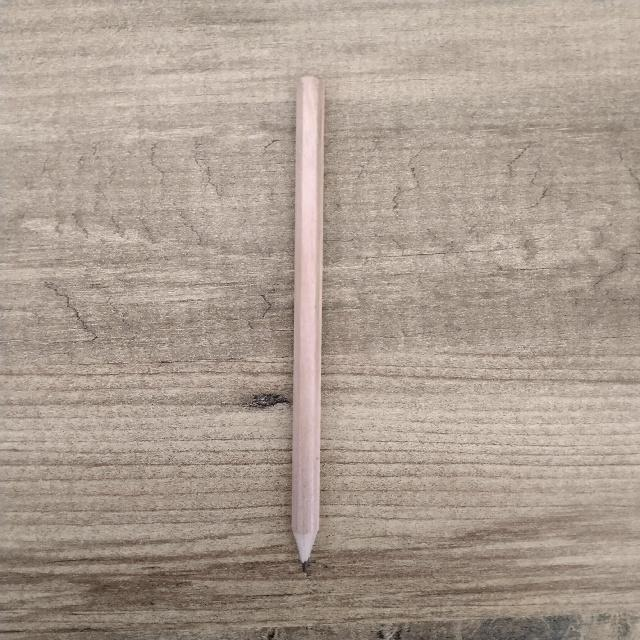pencil: (292, 76, 323, 568)
